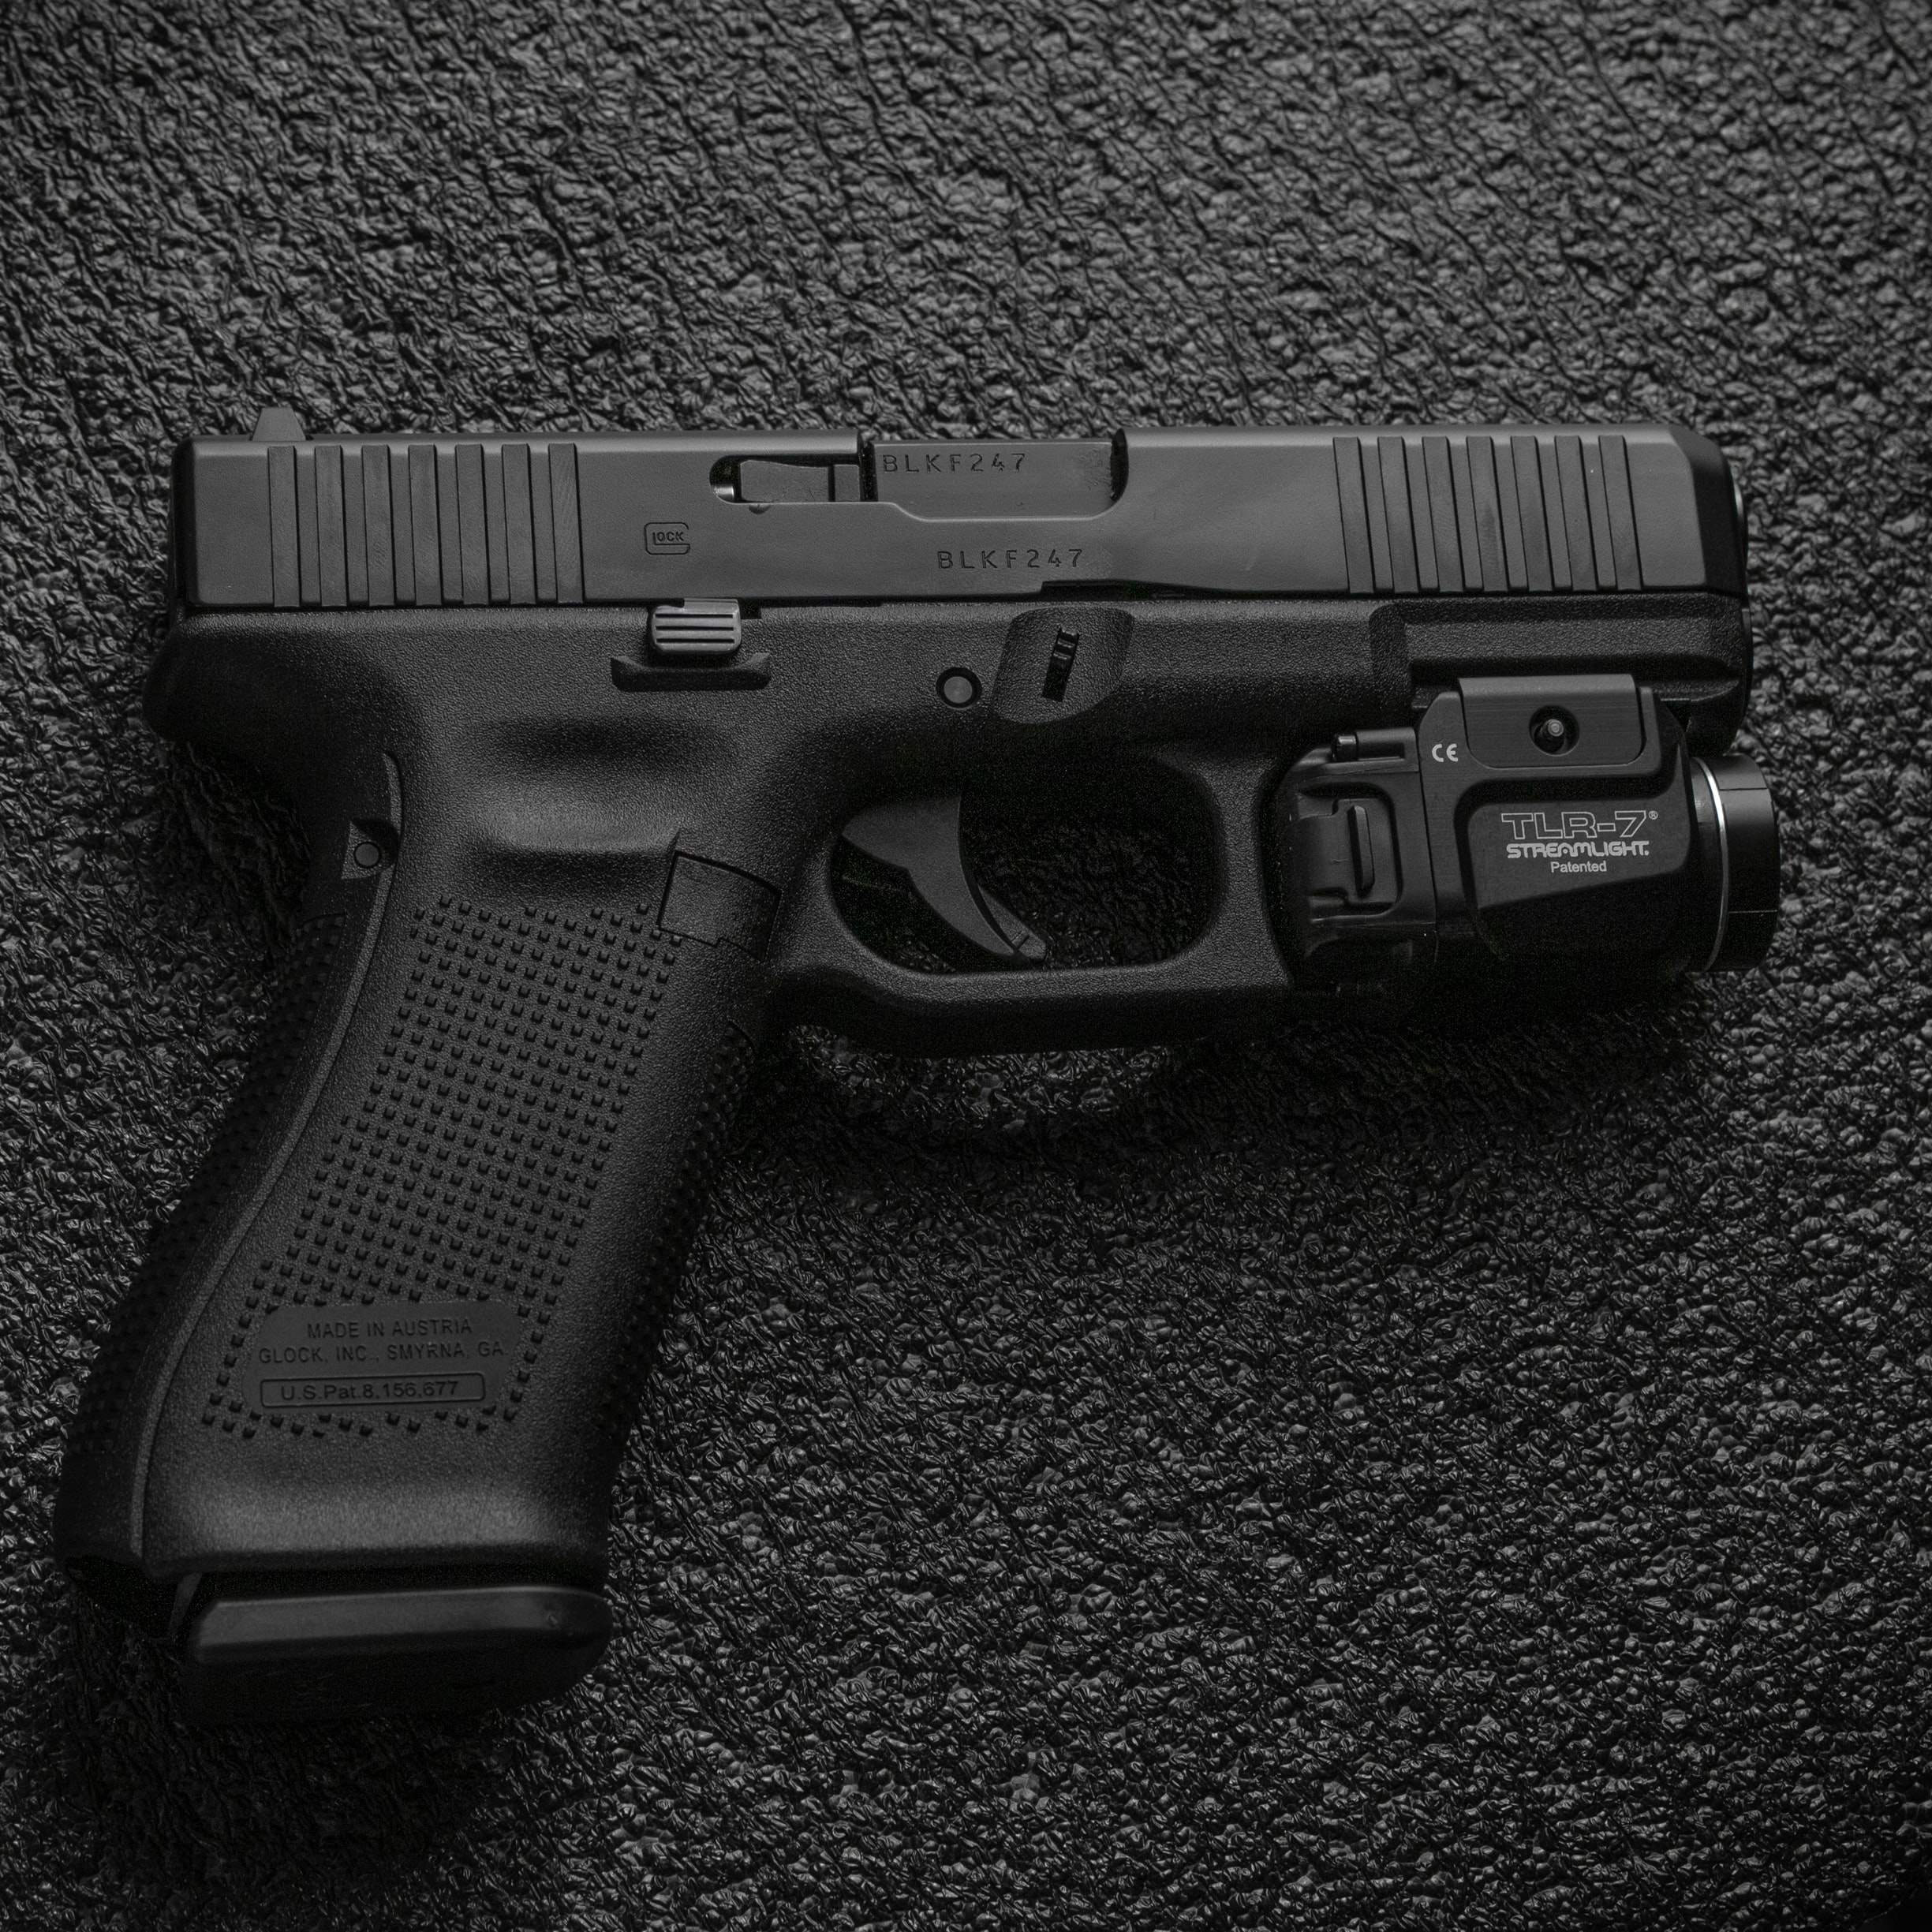Gun: (207, 326, 1785, 1854)
